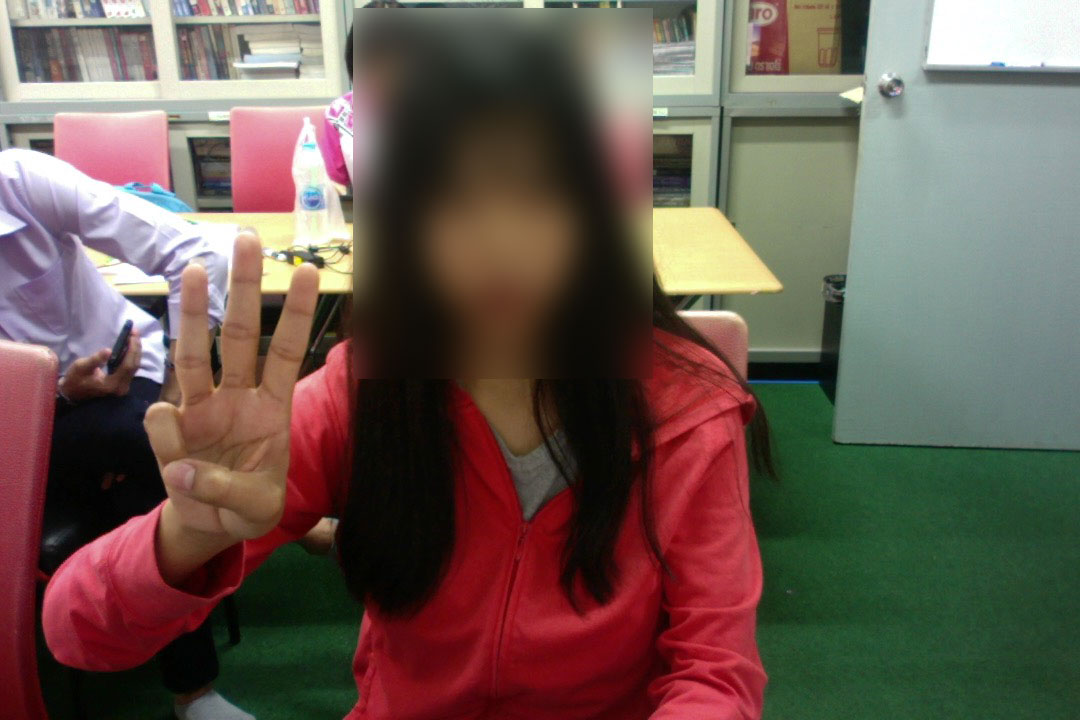wor: (126, 232, 335, 545)
